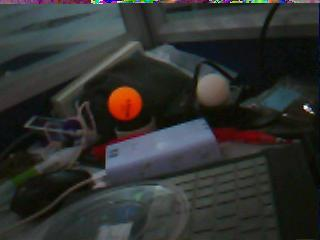oball: (108, 84, 142, 121)
